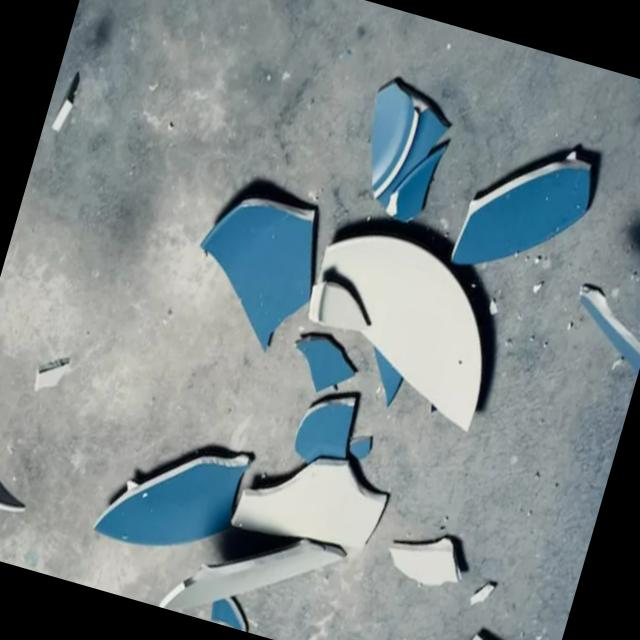PecahanKaca: (283, 214, 517, 436), (175, 176, 335, 362), (446, 123, 603, 298), (342, 73, 462, 231), (0, 477, 30, 517)
